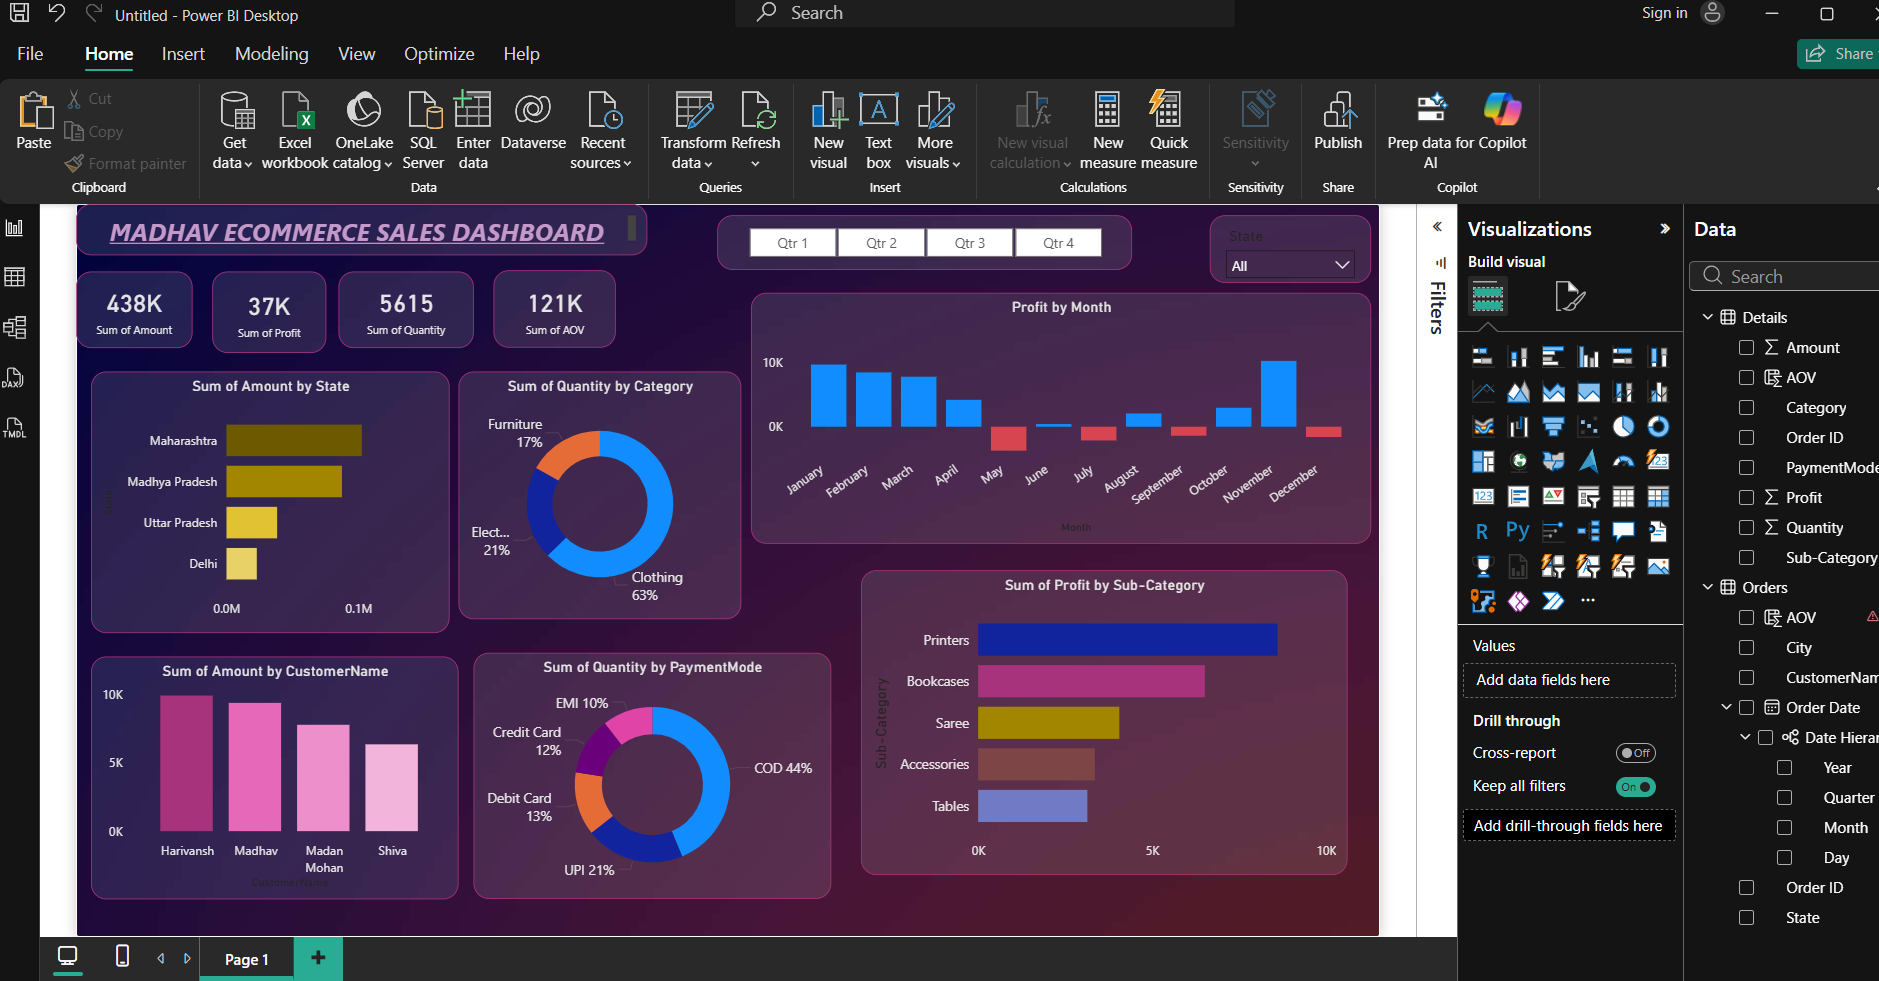

What the dashboard file says about the page in this screenshot:
{"tool":"powerbi","page":{"name":"Page 1","canvas":[1280,720],"ordinal":0},"visuals":[{"type":"textbox","box":[0,0,560.7,50.3],"z":0},{"type":"columnChart","title":"Profit by Month","fields":{"Y":["Sum(Details.Profit)"],"Category":["Orders.Order Date.Variation.Date Hierarchy.Month"]},"box":[671.2,128.8,608.6,246.6],"z":1000},{"type":"barChart","fields":{"Category":["Details.Sub-Category"],"Y":["Sum(Details.Profit)"]},"box":[764.4,407.4,506.8,274.8],"z":2000},{"type":"donutChart","fields":{"Category":["Details.Category"],"Y":["Sum(Details.Quantity)"]},"box":[375.5,164.4,277.3,242.9],"z":3000},{"type":"donutChart","fields":{"Y":["Sum(Details.Quantity)"],"Category":["Details.PaymentMode"]},"box":[390.2,440.5,350.9,241.7],"z":4000},{"type":"card","fields":{"Values":["Sum(Details.Amount)"]},"box":[0,66.3,114.1,74.8],"z":5000},{"type":"card","fields":{"Values":["Sum(Details.Quantity)"]},"box":[257.7,66.3,132.5,74.8],"z":6000},{"type":"card","fields":{"Values":["Sum(Details.Profit)"]},"box":[133.7,66.3,111.7,79.8],"z":7000},{"type":"card","fields":{"Values":["Sum(Details.AOV)"]},"box":[409.8,65,120.2,76.1],"z":8000},{"type":"barChart","fields":{"Category":["Orders.State"],"Y":["Sum(Details.Amount)"]},"box":[14.7,164.4,352.1,256.4],"z":9000},{"type":"columnChart","fields":{"Category":["Orders.CustomerName"],"Y":["Sum(Details.Amount)"]},"box":[14.7,444.2,360.7,238],"z":10000},{"type":"slicer","fields":{"Values":["Orders.Order Date.Variation.Date Hierarchy.Quarter"]},"box":[620.9,49.1,449.1,54],"z":11000},{"type":"slicer","fields":{"Values":["Orders.State"]},"box":[1094.5,50.3,158.3,66.3],"z":12000}]}

Visuals, with their boxes on the page's 1280x720 design canvas (x1, y1, x2, y2). These are canvas units, not pixel positions in the 1879x981 screenshot, which may show the page scaled, cropped or inside an application window:
textbox: [0, 0, 561, 50]
"Profit by Month" columnChart: [671, 129, 1280, 375]
barChart - Details.Sub-Category x Sum(Details.Profit): [764, 407, 1271, 682]
donutChart - Details.Category x Sum(Details.Quantity): [376, 164, 653, 407]
donutChart - Sum(Details.Quantity) x Details.PaymentMode: [390, 440, 741, 682]
card - Sum(Details.Amount): [0, 66, 114, 141]
card - Sum(Details.Quantity): [258, 66, 390, 141]
card - Sum(Details.Profit): [134, 66, 245, 146]
card - Sum(Details.AOV): [410, 65, 530, 141]
barChart - Orders.State x Sum(Details.Amount): [15, 164, 367, 421]
columnChart - Orders.CustomerName x Sum(Details.Amount): [15, 444, 375, 682]
slicer - Orders.Order Date.Variation.Date Hierarchy.Quarter: [621, 49, 1070, 103]
slicer - Orders.State: [1094, 50, 1253, 117]
